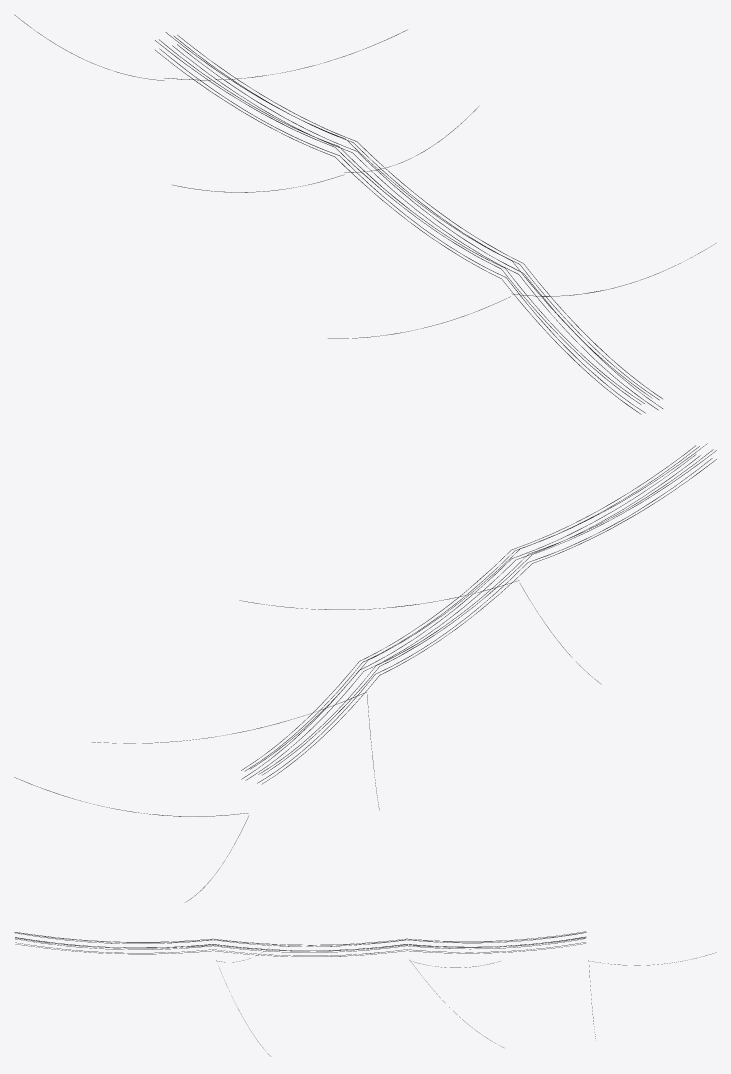
The model's file is power_lines-low.glb.
3 views of the same model, one above another, from view 1: azimuth 30°, elevation 25°; view 2: azimuth 150°, elevation 25°; view 3: azimuth 270°, elevation 25° (orthographic). The views are drawn at different scales.
Visible parts, largest first — view 1: power_lines; view 2: power_lines; view 3: power_lines.
Part boxes in pixels (x1,y1,x2,y2): power_lines: (14, 14, 715, 414); power_lines: (14, 443, 716, 902); power_lines: (14, 931, 716, 1056).
Size of the model in its own units: 38.1 by 7.9 by 102.
1 material, 1 textured.
